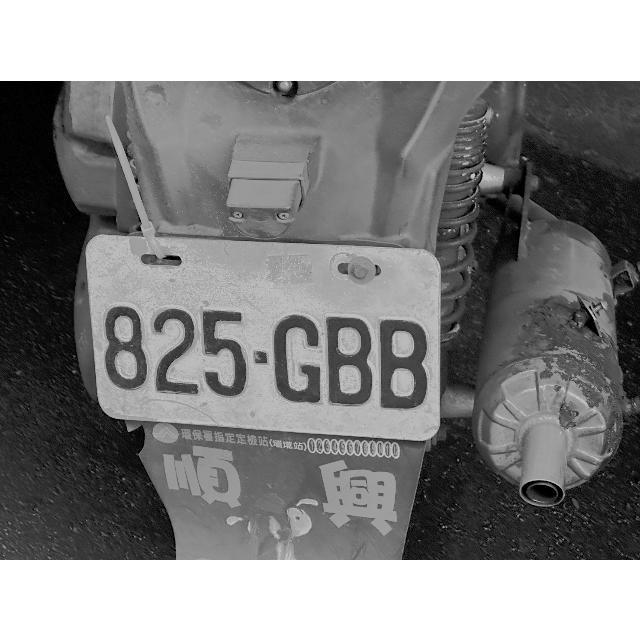-: (251, 343, 269, 371)
2: (152, 302, 202, 400)
5: (200, 304, 250, 402)
8: (104, 301, 150, 395)
B: (377, 312, 431, 414), (322, 311, 376, 411)
G: (272, 310, 326, 408)
